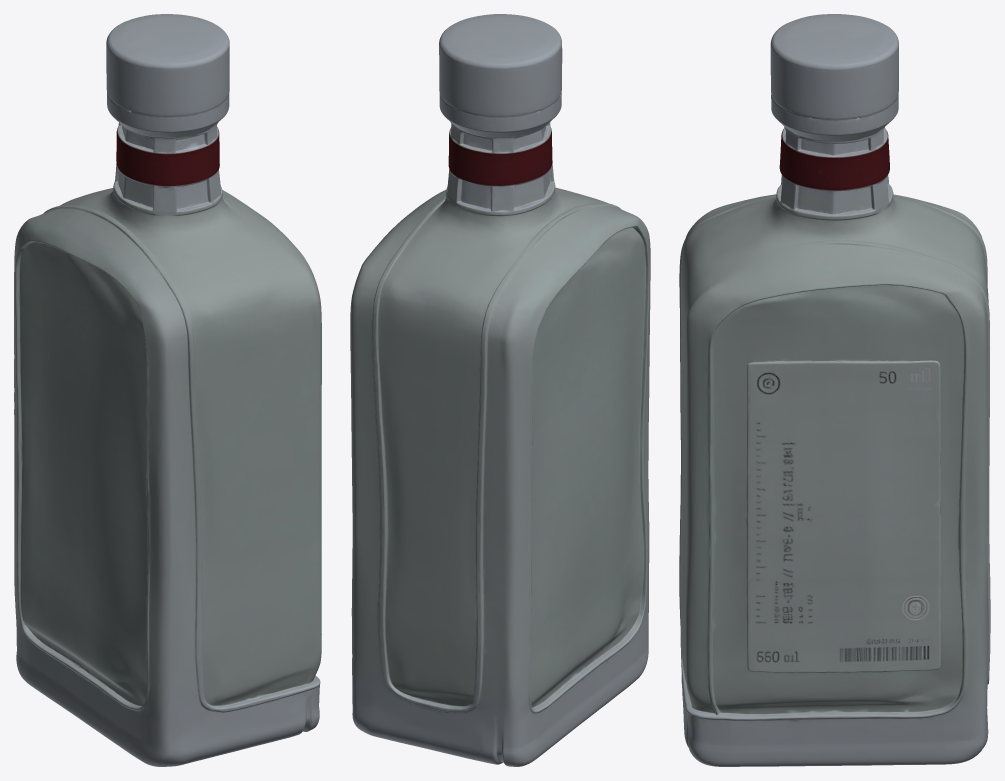
File: alcohol.glb
The picture shows the model from 3 angles, left to right: view 1: azimuth 30°, elevation 25°; view 2: azimuth 150°, elevation 25°; view 3: azimuth 270°, elevation 25°; orthographic projection. The views are drawn at different scales.
Parts seen in each view (by area): view 1: tripo_node_60f73a88-4e23-4279-86e5-b9e4e7ce4a4e; view 2: tripo_node_60f73a88-4e23-4279-86e5-b9e4e7ce4a4e; view 3: tripo_node_60f73a88-4e23-4279-86e5-b9e4e7ce4a4e.
Boxes of the visible parts, left/top/right/bottom form: tripo_node_60f73a88-4e23-4279-86e5-b9e4e7ce4a4e: left=14, top=14, right=321, bottom=766; tripo_node_60f73a88-4e23-4279-86e5-b9e4e7ce4a4e: left=350, top=14, right=650, bottom=766; tripo_node_60f73a88-4e23-4279-86e5-b9e4e7ce4a4e: left=679, top=14, right=990, bottom=766.
Size of the model in its own units: 0.2953 by 1 by 0.4088.
Materials: 1 (1 with a texture image).
